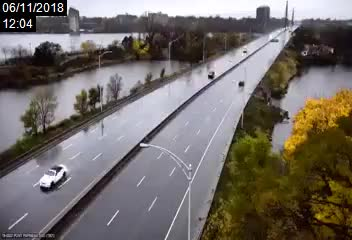personal_car: (35, 163, 70, 189), (205, 68, 216, 78), (237, 78, 244, 87)
